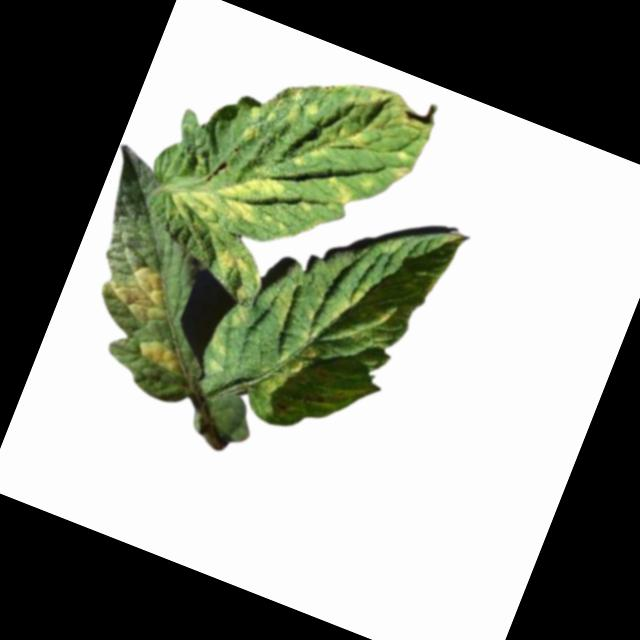Leaf_Mold: (311, 71, 439, 189), (161, 145, 287, 253), (96, 252, 182, 331), (259, 331, 321, 404), (131, 334, 186, 377), (236, 100, 278, 148), (264, 279, 301, 330), (281, 86, 322, 132), (316, 169, 357, 214), (213, 244, 253, 281), (362, 302, 396, 328), (204, 329, 233, 358)
